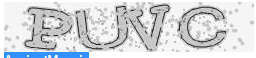C: (177, 6, 229, 51)
P: (23, 5, 74, 51)
U: (73, 5, 128, 52)
V: (124, 3, 172, 52)
